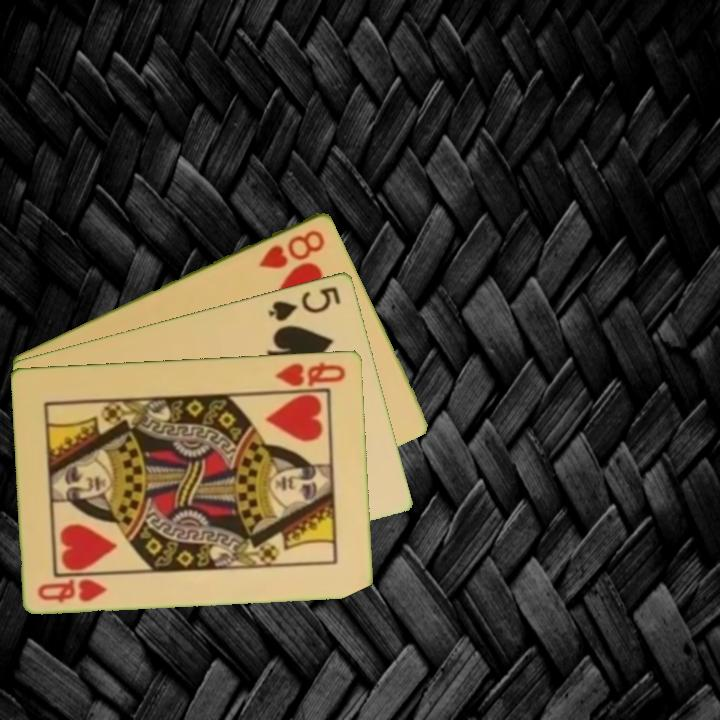5s: (265, 282, 344, 324)
8h: (255, 225, 328, 271)
Qh: (34, 574, 110, 606), (271, 358, 348, 389)
